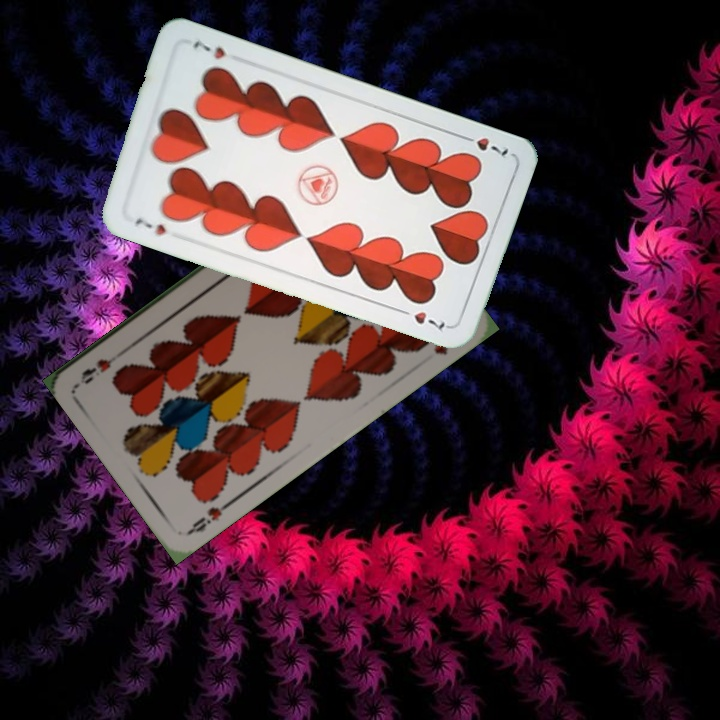H7: (456, 130, 511, 161), (130, 213, 169, 238)
H9: (184, 496, 235, 538)
